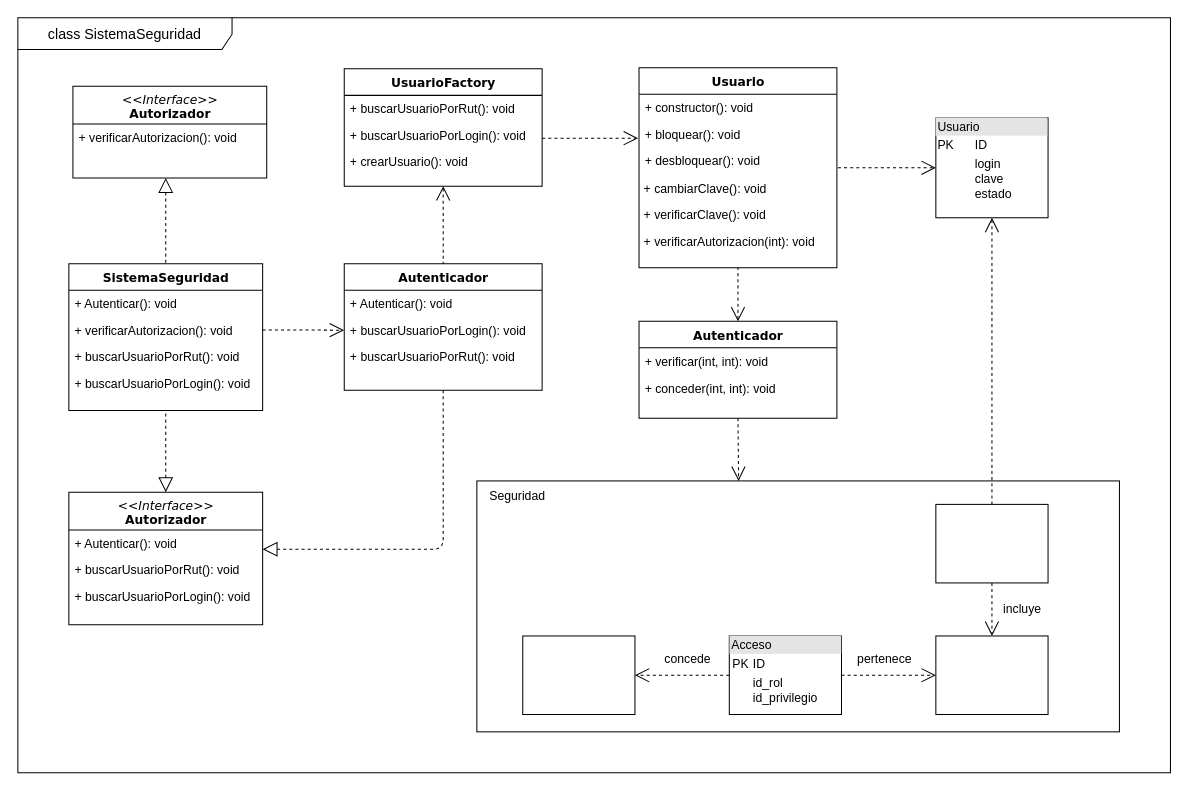
Image size: 1188x791. Some labels were removed from this diagram. The shapes that lost their labels are listed below. From the top down, each one's centre as x and y in pixels, then its label:
At [991,543]: "Autorizacion PK ID id_login id_rol".
At [578,675]: "Privilegio PK ID privilegio descripcion".
At [991,675]: "Rol PK ID rol descripcion".
